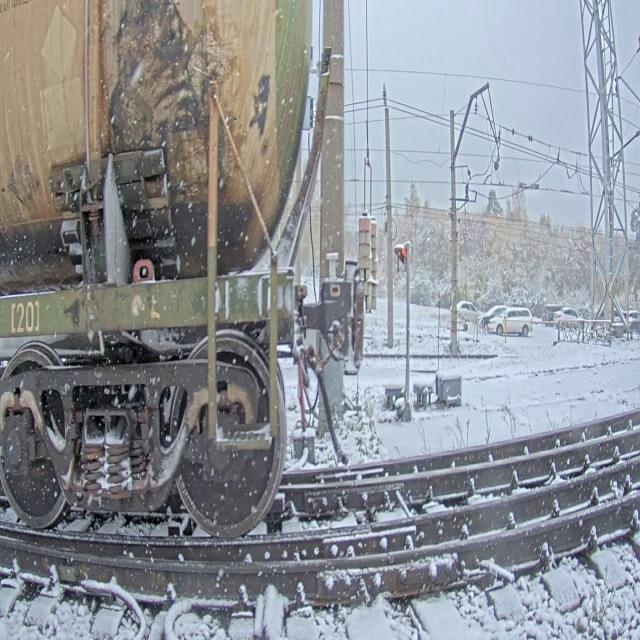tank: (0, 0, 372, 558)
